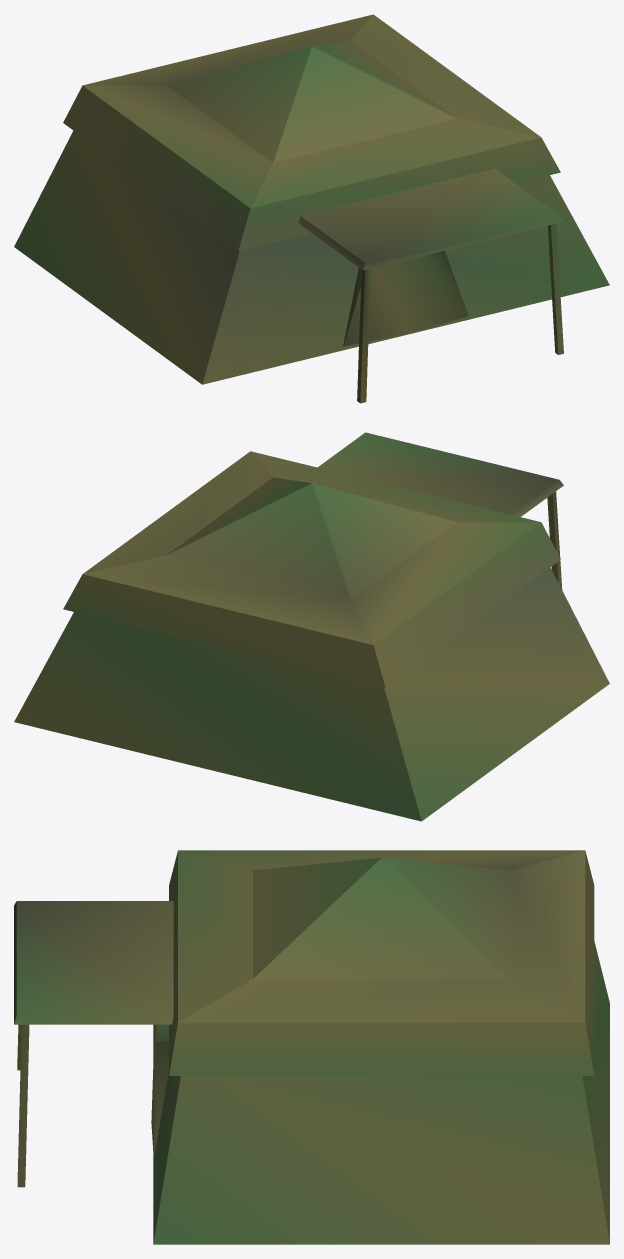
Rendered from Barraca.fbx.
The picture shows the model from 3 angles, top to bottom: view 1: azimuth 30°, elevation 25°; view 2: azimuth 150°, elevation 25°; view 3: azimuth 270°, elevation 25°; orthographic projection. The views are drawn at different scales.
Visible parts, largest first — view 1: LOD_0; view 2: LOD_0; view 3: LOD_0.
Boxes of the visible parts, x1,y1,x2,y2 form: LOD_0: (14,14,609,403); LOD_0: (14,432,609,821); LOD_0: (14,850,609,1244).
Size of what is drawn, in the model's own units: 740 by 385 by 772.
